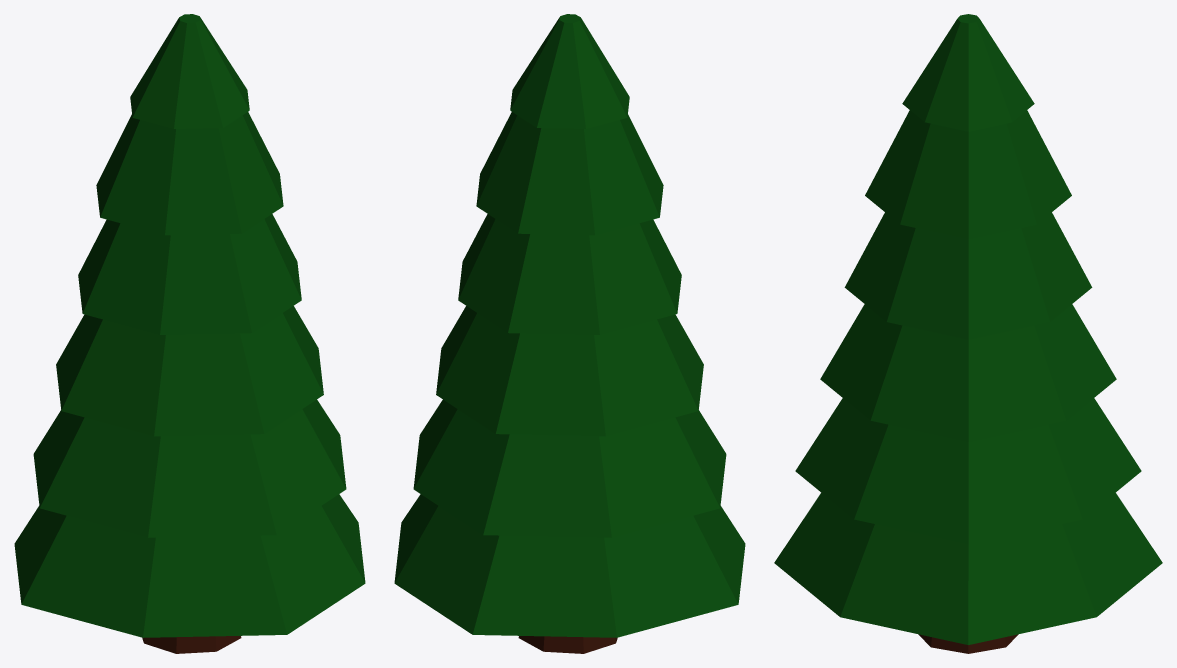
File: tree1Bounce_animated.FBX
The picture shows the model from 3 angles, left to right: view 1: azimuth 30°, elevation 25°; view 2: azimuth 150°, elevation 25°; view 3: azimuth 270°, elevation 25°; orthographic projection.
Visible parts, largest first — view 1: Pine Tree; view 2: Pine Tree; view 3: Pine Tree.
Part boxes in pixels (x1=…): Pine Tree: x1=14, y1=14, x2=365, y2=653; Pine Tree: x1=394, y1=14, x2=745, y2=653; Pine Tree: x1=774, y1=14, x2=1162, y2=653.
Bounding box in the file's own units: 83.62 × 145 × 83.62.
